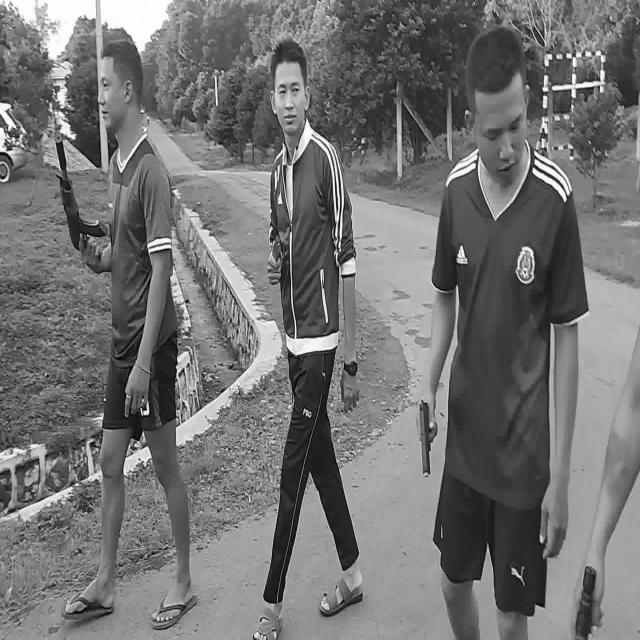gun: (56, 136, 107, 260), (420, 401, 431, 477)
